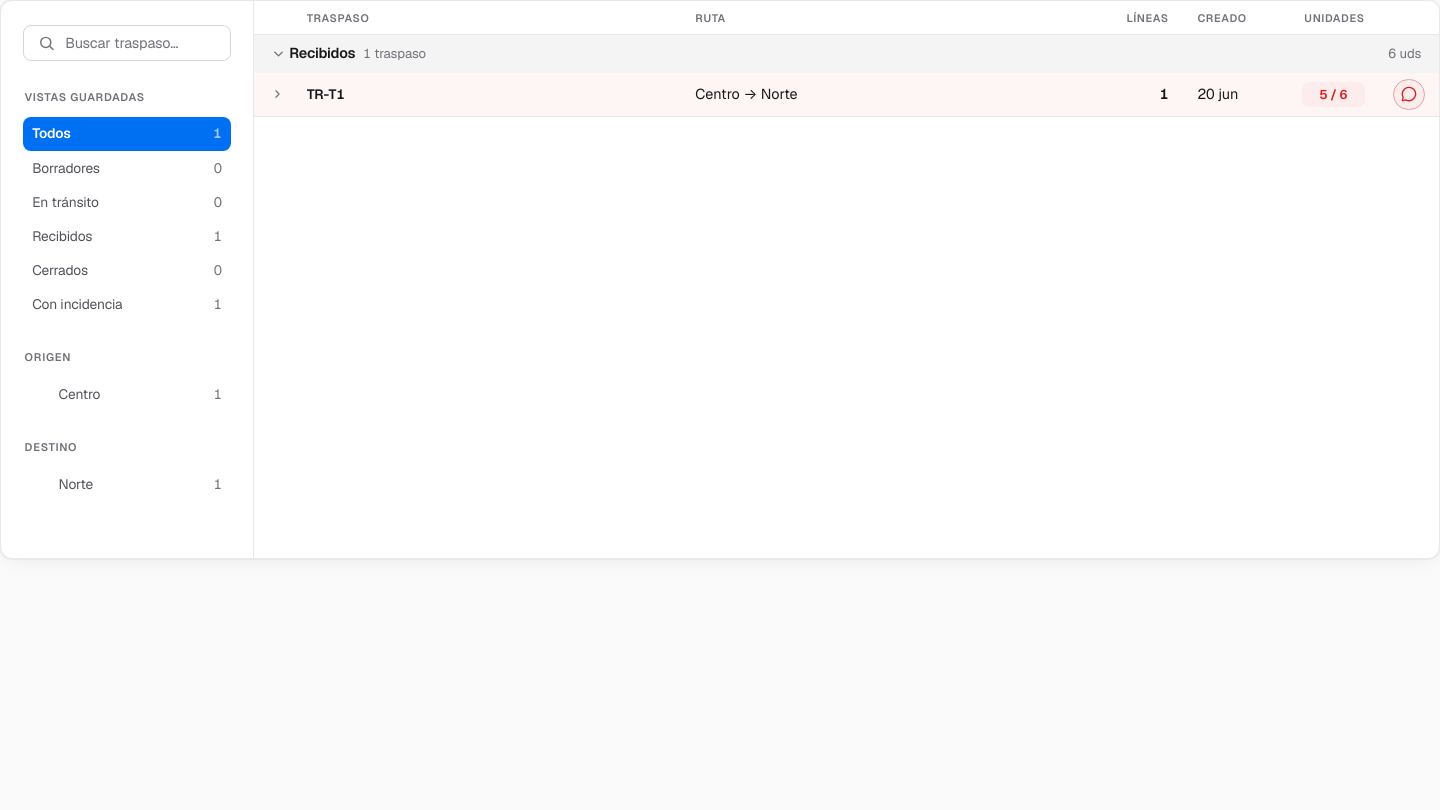
Test: TransfersSection v2 — grupos, detalle en línea y ciclo de vida › resume las incidencias en el detalle (el detalle por línea vive en el chat)
Click the row with test id "transfer-row" at (846, 95), box [254,73,1439,117]
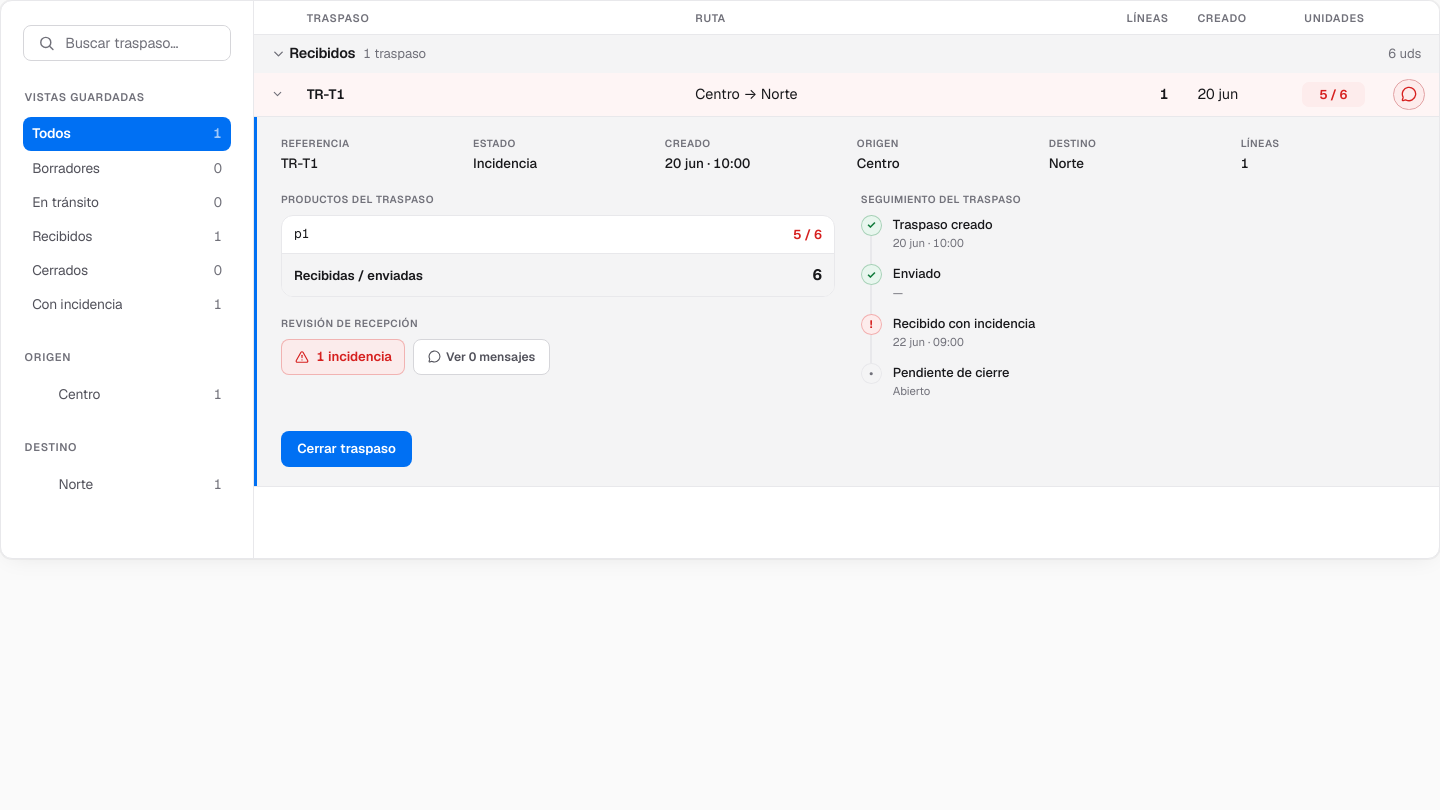
Result: the element with test id "transfer-review-incidents" reads "1 incidencia" at [281,339,406,375]
